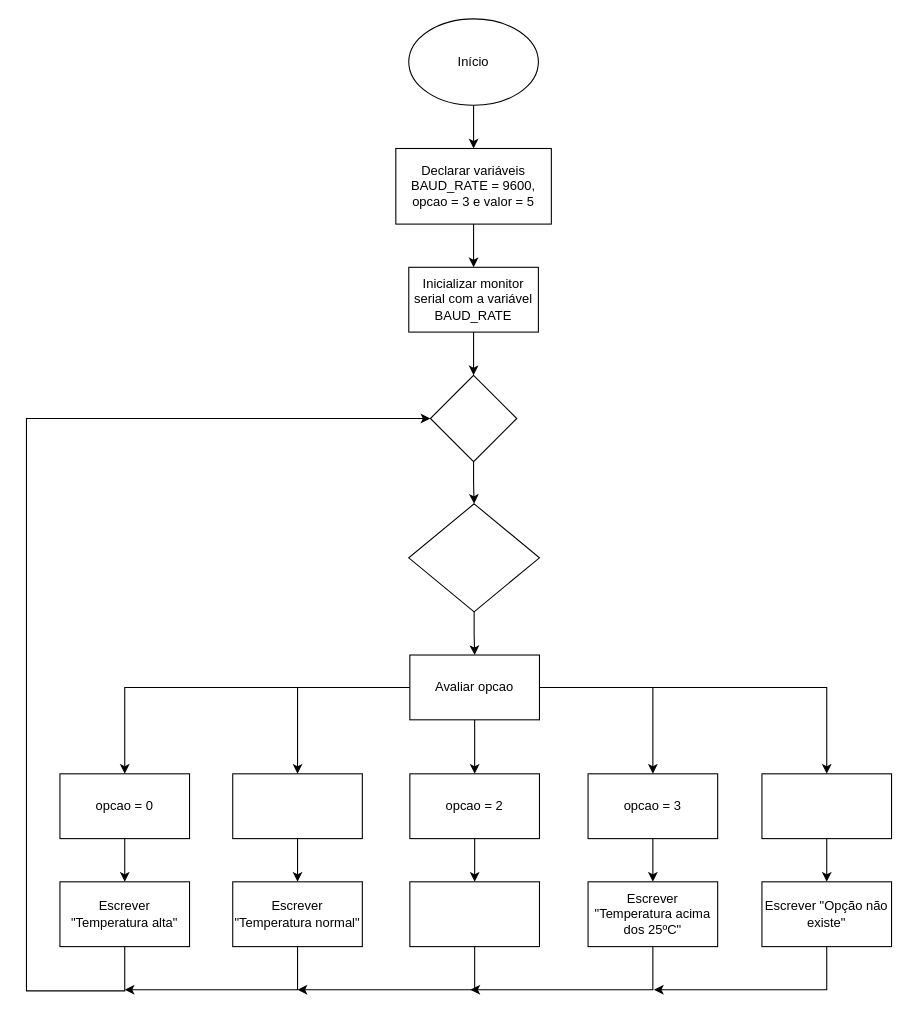
The diagram is 910 pixels wide and 1018 high, and some of its shapes have lost their labels. The centre of each missing label's shape, as x and y in pixels:
default: [826,806]
Escrever "Temperatura média": [474,914]
opcao = 1: [297,806]
Repetir sempre: [473,418]
Se opcao = 3 e valor = 5: [473,557]
